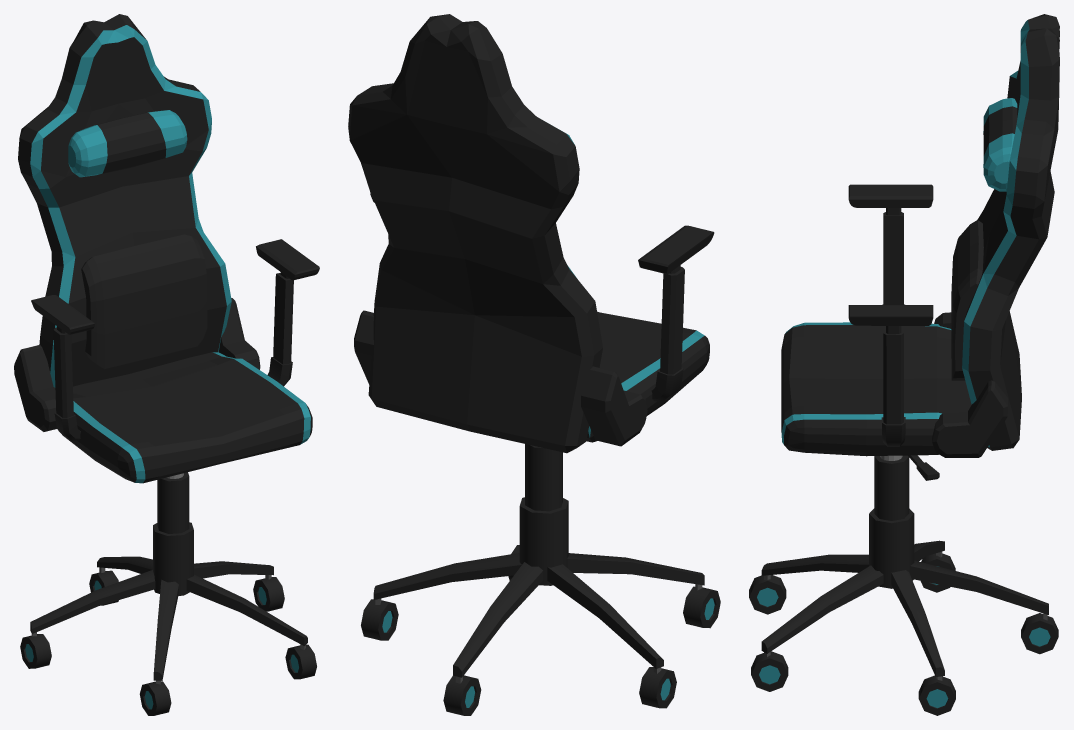
Rendered from chair.glb.
The picture shows the model from 3 angles, left to right: view 1: azimuth 30°, elevation 25°; view 2: azimuth 150°, elevation 25°; view 3: azimuth 270°, elevation 25°; orthographic projection. The views are drawn at different scales.
Parts seen in each view (by area): view 1: Gaming Chair Back 1, Gaming Chair Seat Base 1, Gaming Chair Ac 2, Gaming Chair Base Bottom 1, Gaming Chair Ac 1, Gaming Chair Arms Base 1, Gaming Chair Arms 2, Gaming Chair Wheel.001, Gaming Chair Wheel, Gaming Chair Wheel.004, Gaming Chair Wheel.003; view 2: Gaming Chair Back 1, Gaming Chair Base Bottom 1, Gaming Chair Seat Base 1, Gaming Chair Arms Base 1, Gaming Chair Arms 2, Gaming Chair Wheel, Gaming Chair Wheel.003, Gaming Chair Wheel.001, Gaming Chair Wheel.002; view 3: Gaming Chair Seat Base 1, Gaming Chair Back 1, Gaming Chair Base Bottom 1, Gaming Chair Arms Base 1, Gaming Chair Arms 2, Gaming Chair Ac 2, Gaming Chair Ac 1, Gaming Chair Wheel.002, Gaming Chair Wheel.003, Gaming Chair Wheel.004, Gaming Chair Wheel, Gaming Chair Wheel.001.
Part boxes in pixels (box(x1,y1,x2,y2)): Gaming Chair Back 1: box(18, 14, 231, 387); Gaming Chair Seat Base 1: box(14, 298, 312, 483); Gaming Chair Ac 2: box(81, 234, 207, 368); Gaming Chair Base Bottom 1: box(30, 472, 307, 684); Gaming Chair Ac 1: box(68, 110, 187, 177); Gaming Chair Arms Base 1: box(53, 273, 293, 440); Gaming Chair Arms 2: box(31, 239, 319, 334); Gaming Chair Wheel.001: box(20, 634, 51, 668); Gaming Chair Wheel: box(139, 681, 171, 715); Gaming Chair Wheel.004: box(285, 644, 316, 679); Gaming Chair Wheel.003: box(253, 577, 284, 611); Gaming Chair Back 1: box(348, 14, 602, 453); Gaming Chair Base Bottom 1: box(373, 444, 704, 683); Gaming Chair Seat Base 1: box(354, 310, 709, 446); Gaming Chair Arms Base 1: box(651, 267, 684, 401); Gaming Chair Arms 2: box(370, 193, 714, 274); Gaming Chair Wheel: box(683, 586, 720, 628); Gaming Chair Wheel.003: box(361, 599, 398, 640); Gaming Chair Wheel.001: box(639, 667, 676, 708); Gaming Chair Wheel.002: box(443, 675, 481, 715); Gaming Chair Seat Base 1: box(781, 312, 1007, 480); Gaming Chair Back 1: box(962, 14, 1059, 450); Gaming Chair Base Bottom 1: box(761, 455, 1048, 680); Gaming Chair Arms Base 1: box(881, 212, 905, 446); Gaming Chair Arms 2: box(848, 184, 933, 334); Gaming Chair Ac 2: box(951, 220, 983, 380); Gaming Chair Ac 1: box(983, 98, 1017, 191); Gaming Chair Wheel.002: box(1021, 613, 1058, 654); Gaming Chair Wheel.003: box(918, 675, 955, 715); Gaming Chair Wheel.004: box(751, 651, 788, 691); Gaming Chair Wheel: box(749, 575, 786, 614); Gaming Chair Wheel.001: box(920, 553, 955, 592).
Bounding box in the file's own units: 0.7313 × 1.63 × 0.7261.
8 materials, 8 textured.
